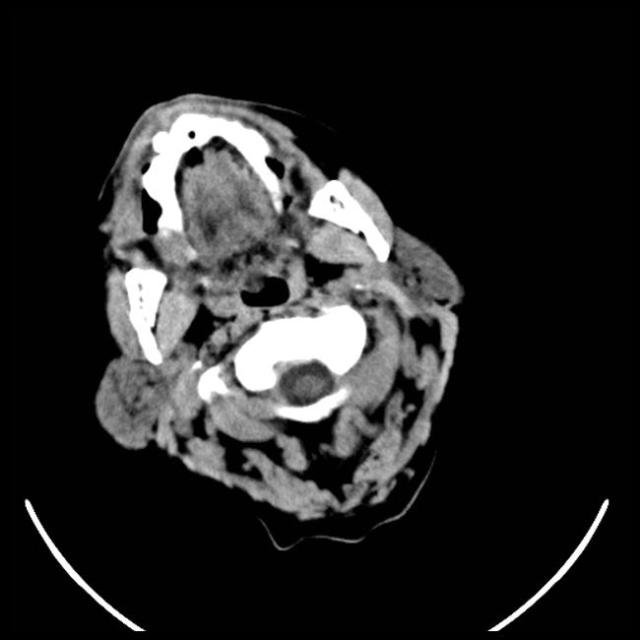lesion: (89, 88, 468, 540)
